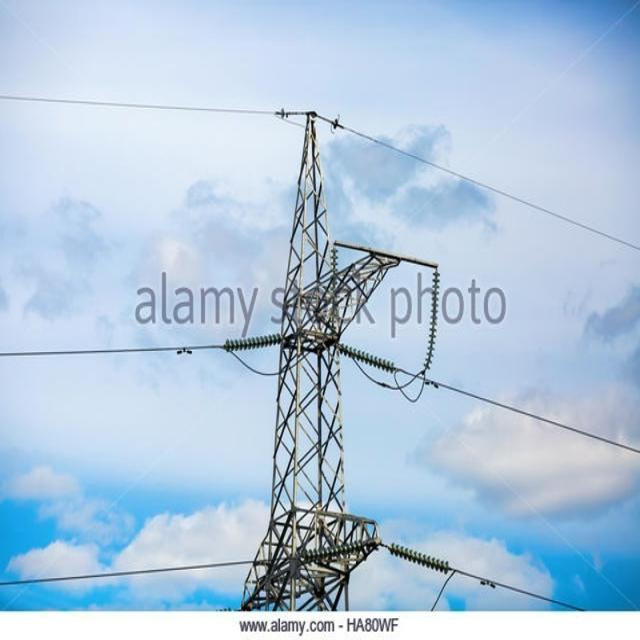non-critical vegetation: (222, 96, 382, 616)
